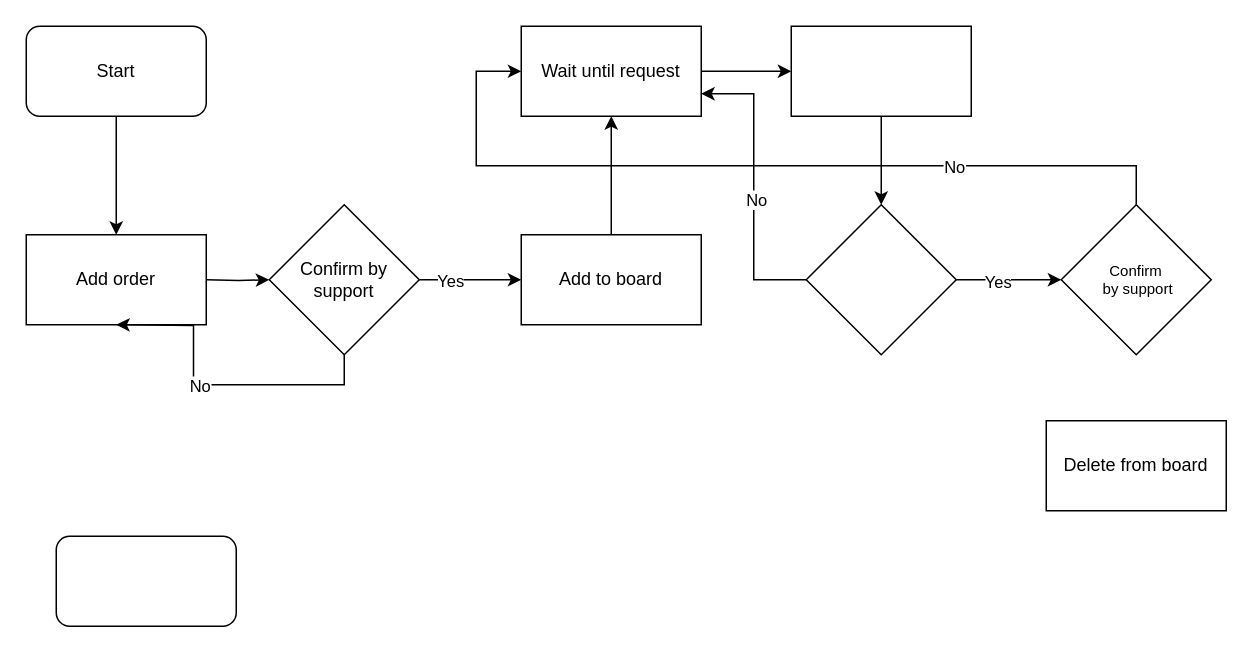
This 1253x653 diagram has some shape labels left out. The shapes that lost their labels are listed below. From the top down, each one's box as (x1, y1, x2, y2) in pixels, then its label:
(790, 25, 971, 116): Request by user
(805, 203, 956, 355): Choose by user
(55, 535, 236, 626): End
